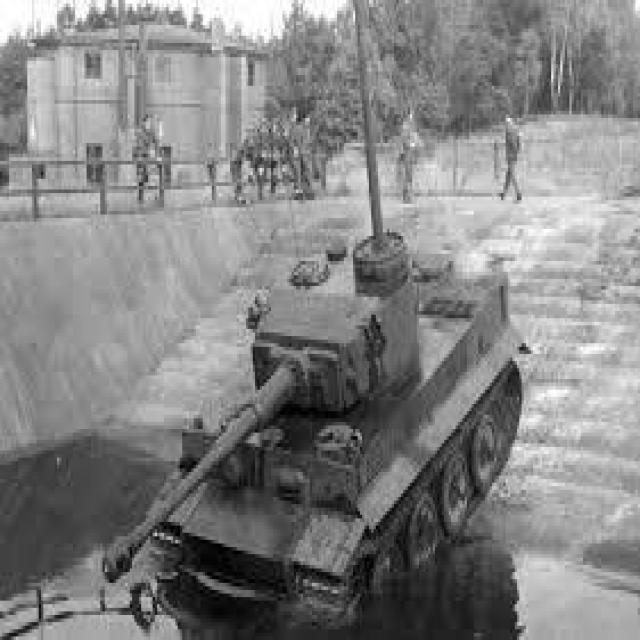Tanks: (86, 39, 594, 626)
